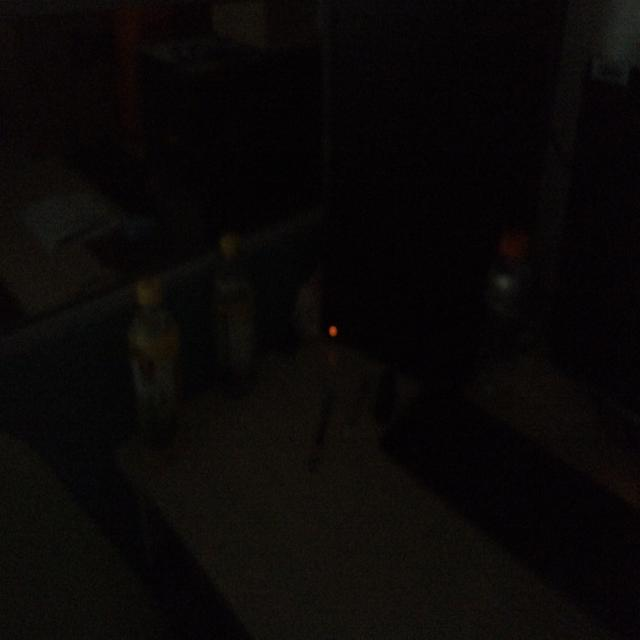Bottle: (202, 225, 270, 408), (479, 212, 564, 356), (121, 266, 183, 458)
